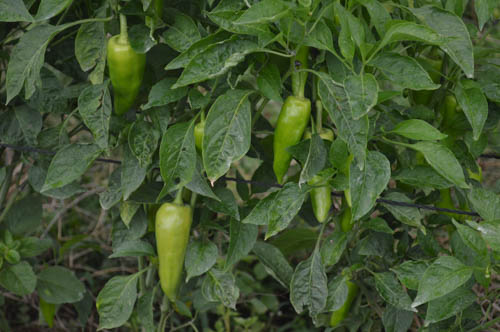ChiliPepper: (148, 193, 195, 302), (266, 90, 316, 191), (98, 33, 151, 123), (304, 126, 339, 229), (408, 46, 448, 115), (323, 271, 363, 332), (185, 118, 214, 162), (439, 92, 461, 134)
